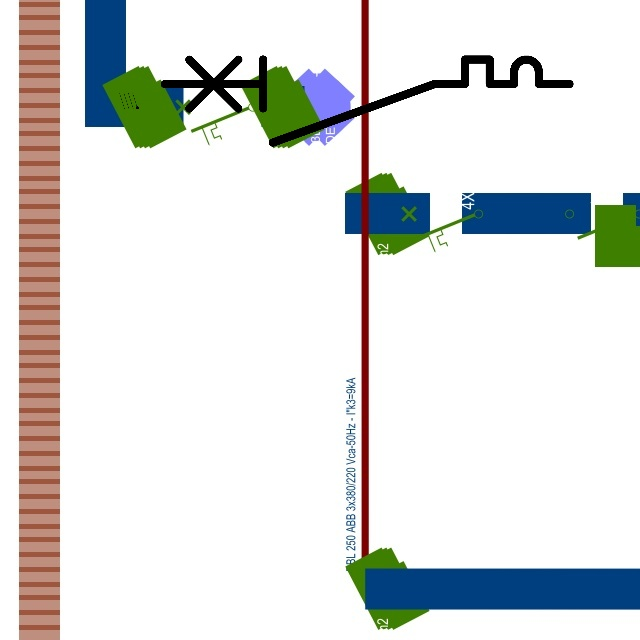interruptor_termomagnetico: (154, 49, 580, 153)
